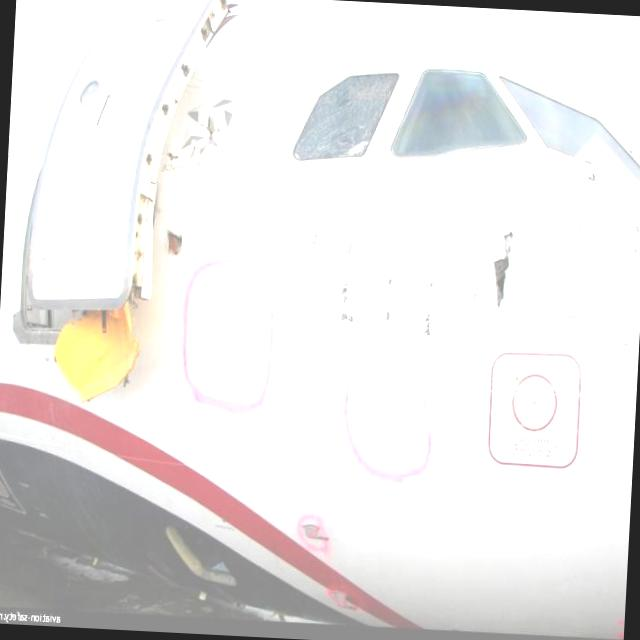crack: (484, 224, 520, 320)
